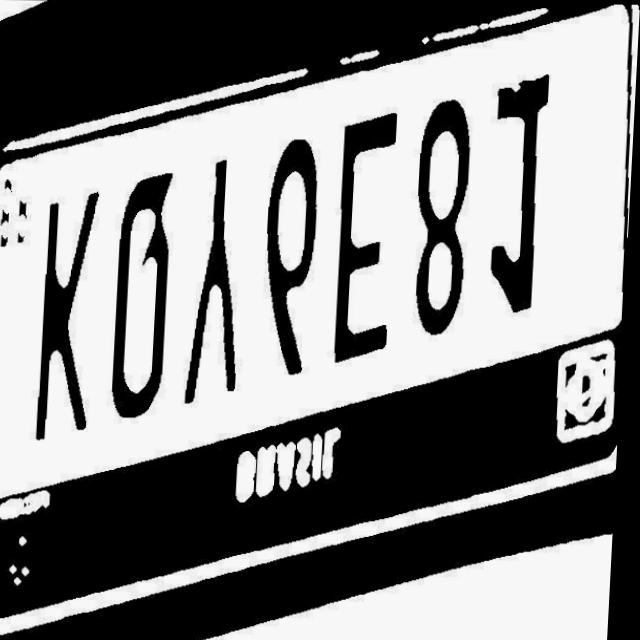1: (483, 59, 562, 319)
6: (262, 127, 331, 379)
8: (412, 93, 482, 337)
e: (328, 102, 411, 360)
k: (35, 192, 116, 447)
q: (104, 165, 189, 420)
y: (182, 145, 264, 407)
